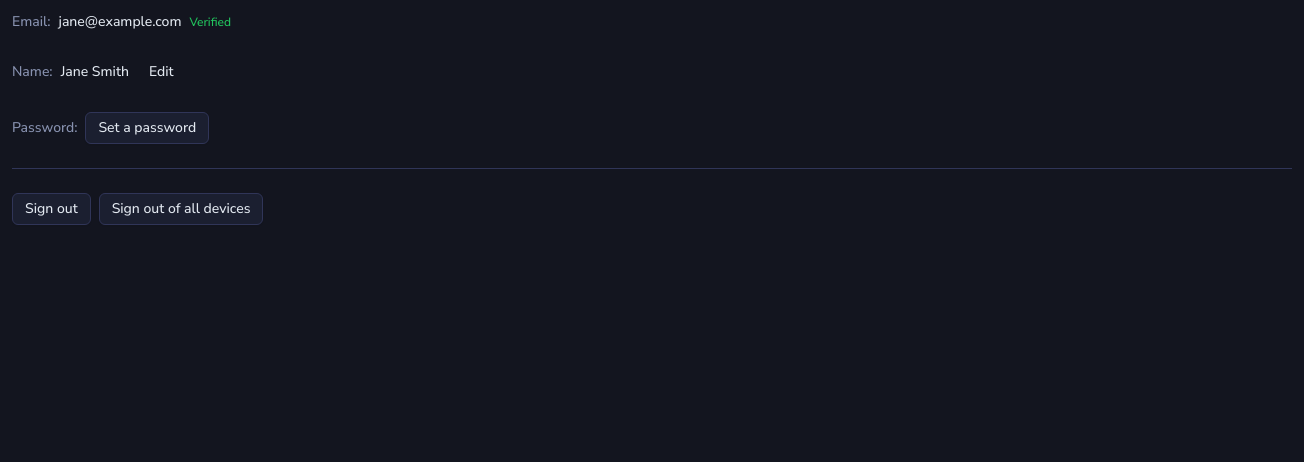
Test: AccountSection › password change › does not show current password field for OAuth-only user
This screenshot has width=1304, height=462.
Step 1. Click the button "Set a password" → (147, 128), box x1=86 y1=112 x2=209 y2=144
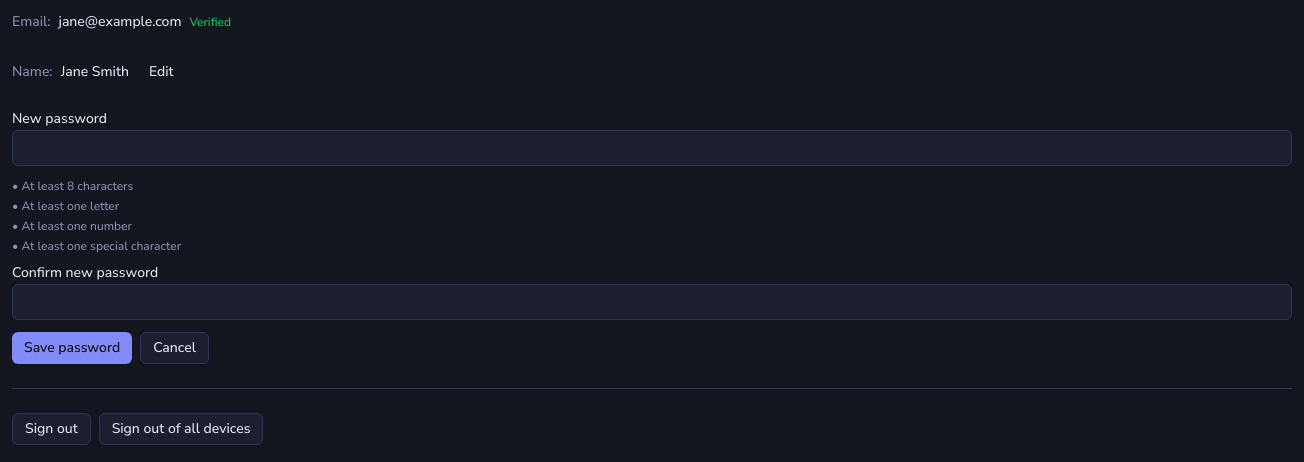
Result: the password field labelled "New password" is shown at x1=12 y1=130 x2=1292 y2=166
